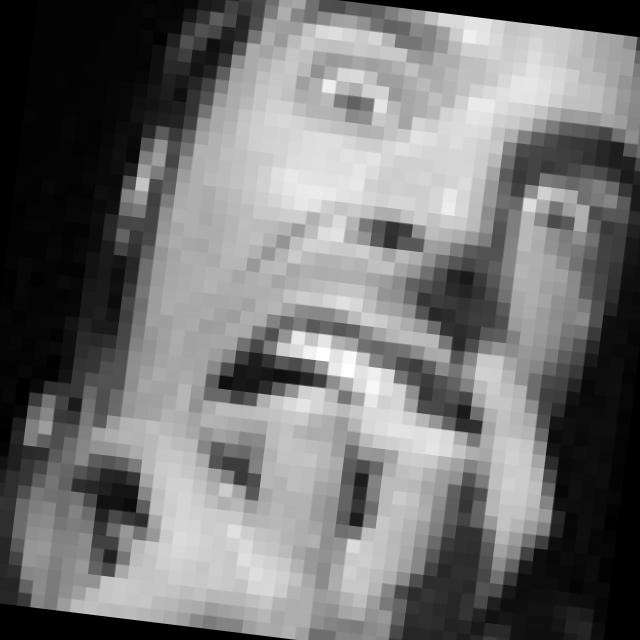fear: (165, 0, 640, 557)
